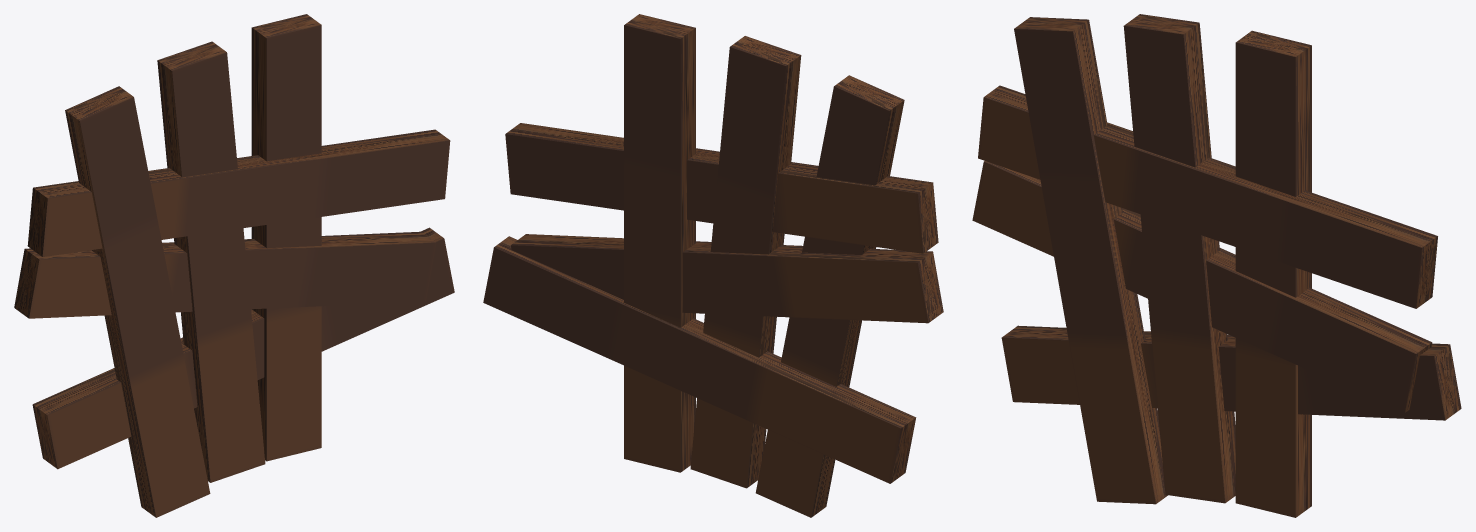
The model's file is pz_g018_fencing_damaged_01_129.obj.
The picture shows the model from 3 angles, left to right: view 1: azimuth 30°, elevation 25°; view 2: azimuth 150°, elevation 25°; view 3: azimuth 330°, elevation 25°; orthographic projection. The views are drawn at different scales.
Visible parts, largest first — view 1: pz_g018_fencing_damaged_01_129; view 2: pz_g018_fencing_damaged_01_129; view 3: pz_g018_fencing_damaged_01_129.
Boxes of the visible parts, left/top/right/bottom form: pz_g018_fencing_damaged_01_129: left=14, top=14, right=454, bottom=517; pz_g018_fencing_damaged_01_129: left=483, top=14, right=943, bottom=517; pz_g018_fencing_damaged_01_129: left=972, top=14, right=1461, bottom=517.
Size of the model in its own units: 0.7019 by 0.6932 by 0.072.
1 material, 1 textured.
